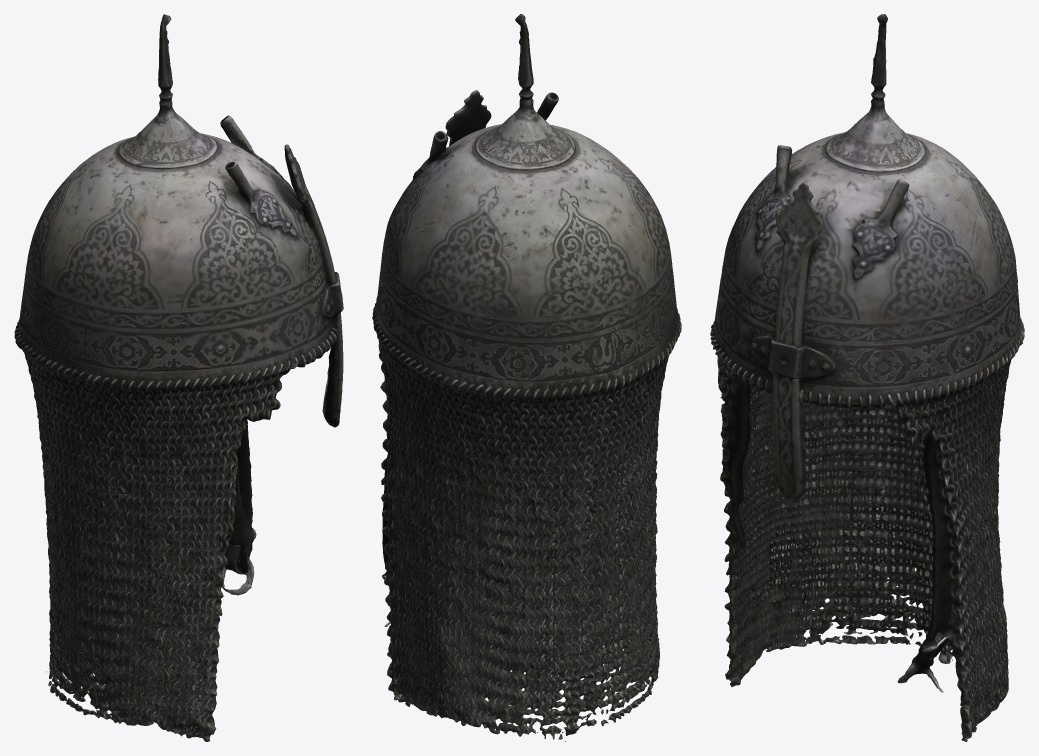
Rendered from dulyga.glb.
3 renders of one model, left to right at view 1: azimuth 30°, elevation 25°; view 2: azimuth 150°, elevation 25°; view 3: azimuth 270°, elevation 25°, orthographic. The views are drawn at different scales.
Visible parts, largest first — view 1: Polygon Reduction; view 2: Polygon Reduction; view 3: Polygon Reduction.
Boxes of the visible parts, <box> form: Polygon Reduction: <box>14,14,343,741</box>; Polygon Reduction: <box>372,14,681,741</box>; Polygon Reduction: <box>710,14,1024,741</box>.
Size of the model in its own units: 101 by 234 by 97.13.
1 material, 1 textured.
